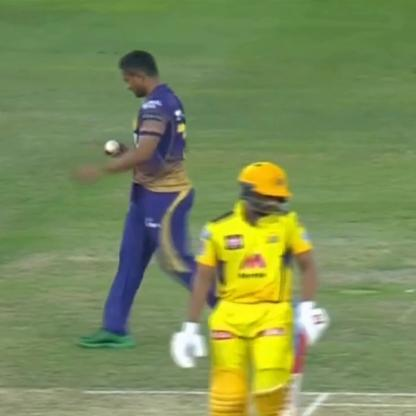ball: (96, 135, 122, 158)
